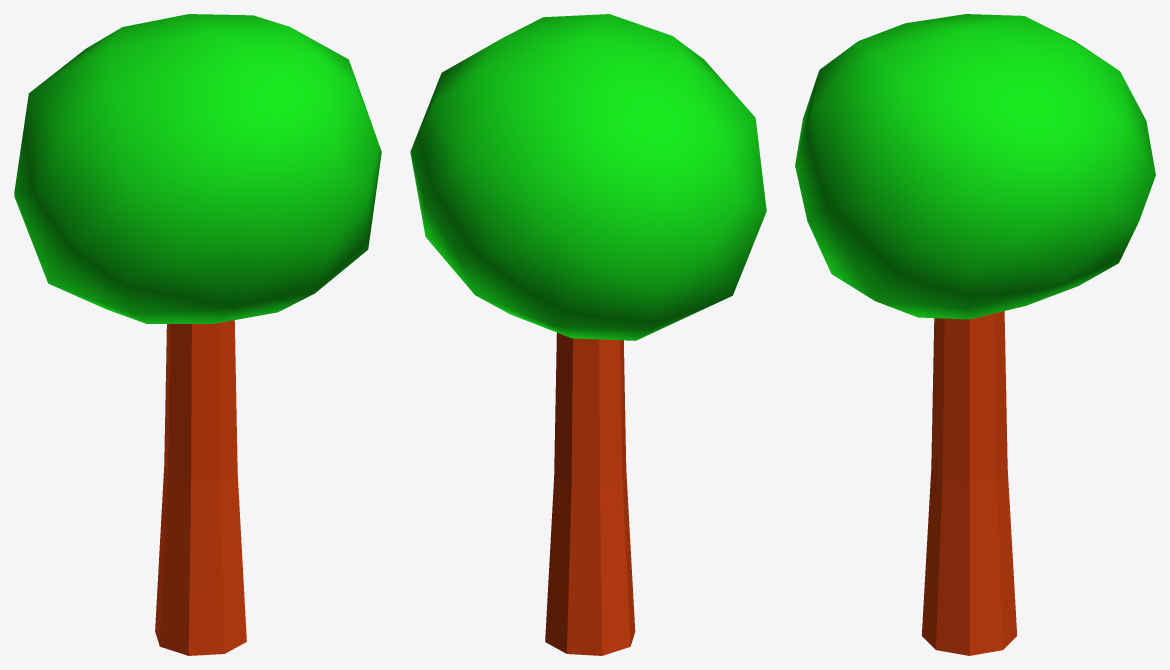
Rendered from tree_1.fbx.
3 views of the same model, side by side, from view 1: azimuth 30°, elevation 25°; view 2: azimuth 150°, elevation 25°; view 3: azimuth 270°, elevation 25° (orthographic). The views are drawn at different scales.
Parts seen in each view (by area): view 1: Cylinder.001; view 2: Cylinder.001; view 3: Cylinder.001.
Boxes of the visible parts, x1,y1,x2,y2 form: Cylinder.001: [14, 14, 381, 655]; Cylinder.001: [410, 14, 766, 655]; Cylinder.001: [795, 14, 1155, 655].
Size of the model in its own units: 386 by 703 by 378.
